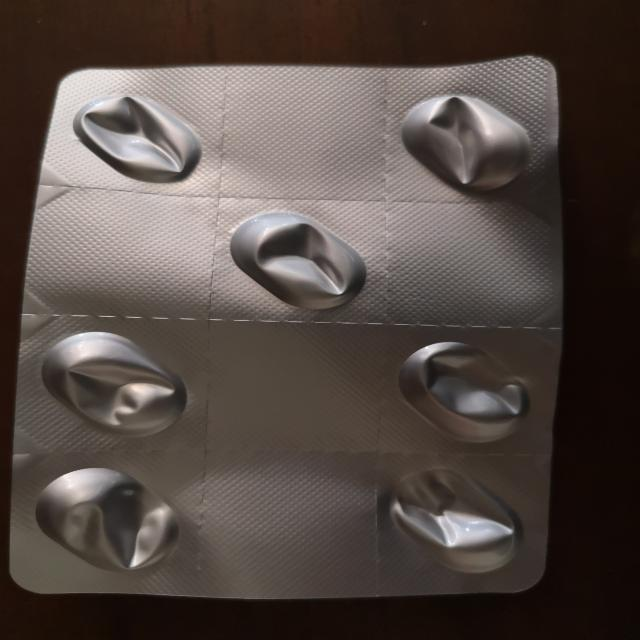Empty: (23, 456, 194, 579), (208, 202, 378, 322), (30, 323, 194, 440), (385, 81, 540, 200), (372, 471, 529, 579), (387, 339, 542, 445), (76, 87, 204, 187)
